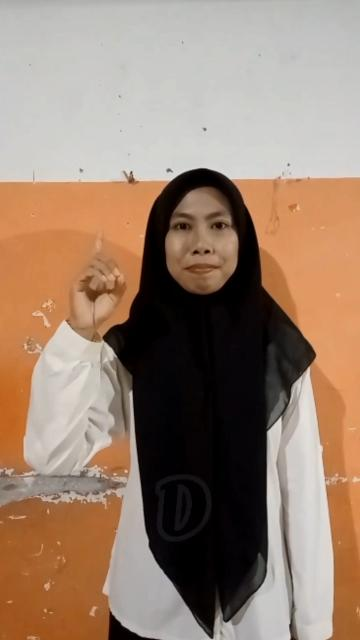D: (66, 226, 128, 322)
